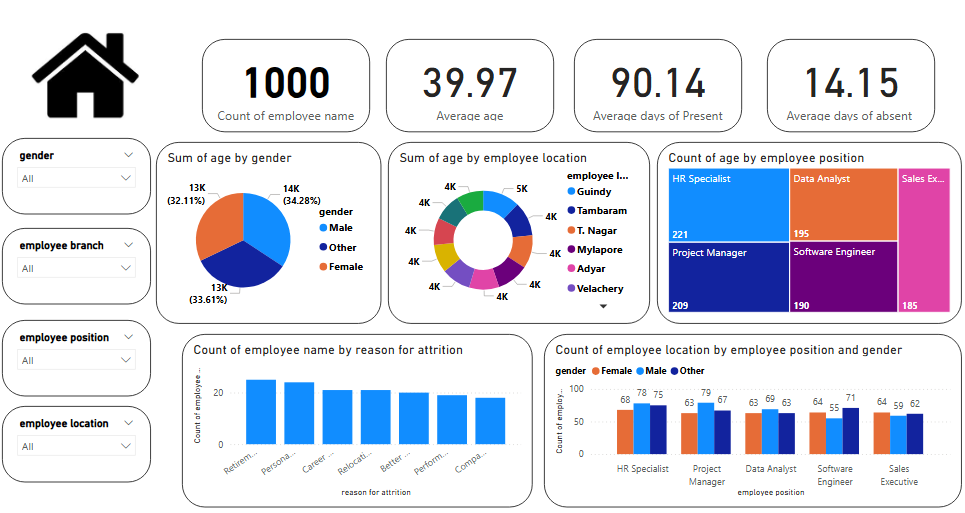

This screenshot's page, from the dashboard's own definition file:
{"tool":"powerbi","page":{"name":"Page 1","canvas":[1280,720],"ordinal":0},"visuals":[{"type":"card","fields":{"Values":["CountNonNull(Sheet1.employee name)"]},"box":[270.5,94.3,219.5,122.1],"z":0},{"type":"pieChart","fields":{"Category":["Sheet1.gender"],"Y":["Sum(Sheet1.age)"]},"box":[210.2,228.8,295.3,238.1],"z":1000},{"type":"card","fields":{"Values":["Avg(Sheet1.attendance percentage)"]},"box":[757.5,94.3,219.5,122.1],"z":2000},{"type":"card","fields":{"Values":["Avg(Sheet1.age)"]},"box":[511.7,94.3,219.5,122.1],"z":3000},{"type":"donutChart","fields":{"Category":["Sheet1.employee location"],"Y":["Sum(Sheet1.age)"]},"box":[514.8,228.8,343.2,238.1],"z":4000},{"type":"treemap","fields":{"Group":["Sheet1.employee position"],"Values":["CountNonNull(Sheet1.age)"]},"box":[867.2,228.8,398.8,238.1],"z":5000},{"type":"clusteredColumnChart","fields":{"Category":["Sheet1.employee position"],"Y":["CountNonNull(Sheet1.employee location)"],"Series":["Sheet1.gender"]},"box":[718.8,480.8,547.2,227.2],"z":6000},{"type":"columnChart","fields":{"Category":["Sheet1.reason for attrition"],"Y":["CountNonNull(Sheet1.employee name)"]},"box":[244.3,480.8,459.1,227.2],"z":7000},{"type":"card","fields":{"Values":["Avg(Sheet1.days absent last year)"]},"box":[1011,94.3,219.5,122.1],"z":8000},{"type":"slicer","fields":{"Values":["Sheet1.gender"]},"box":[9.3,224.2,194.8,100.5],"z":8001},{"type":"slicer","fields":{"Values":["Sheet1.employee branch"]},"box":[9.3,341.6,194.8,100.5],"z":8002},{"type":"slicer","fields":{"Values":["Sheet1.employee position"]},"box":[9.3,462.2,194.8,100.5],"z":8003},{"type":"slicer","fields":{"Values":["Sheet1.employee location"]},"box":[9.3,575.1,194.8,100.5],"z":8004},{"type":"image","box":[9.3,66.5,218,150],"z":8005}]}

Visuals, with their boxes in screenshot pixels (x1, y1, x2, y2):
card - CountNonNull(Sheet1.employee name): rect(202, 39, 367, 131)
pieChart - Sheet1.gender x Sum(Sheet1.age): rect(156, 140, 379, 320)
card - Avg(Sheet1.attendance percentage): rect(569, 39, 735, 131)
card - Avg(Sheet1.age): rect(384, 39, 549, 131)
donutChart - Sheet1.employee location x Sum(Sheet1.age): rect(386, 140, 645, 320)
treemap - Sheet1.employee position x CountNonNull(Sheet1.age): rect(652, 140, 953, 320)
clusteredColumnChart - Sheet1.employee position x CountNonNull(Sheet1.employee location): rect(540, 330, 953, 502)
columnChart - Sheet1.reason for attrition x CountNonNull(Sheet1.employee name): rect(182, 330, 528, 502)
card - Avg(Sheet1.days absent last year): rect(761, 39, 926, 131)
slicer - Sheet1.gender: rect(5, 137, 152, 212)
slicer - Sheet1.employee branch: rect(5, 225, 152, 301)
slicer - Sheet1.employee position: rect(5, 316, 152, 392)
slicer - Sheet1.employee location: rect(5, 401, 152, 477)
image: rect(5, 18, 169, 131)
